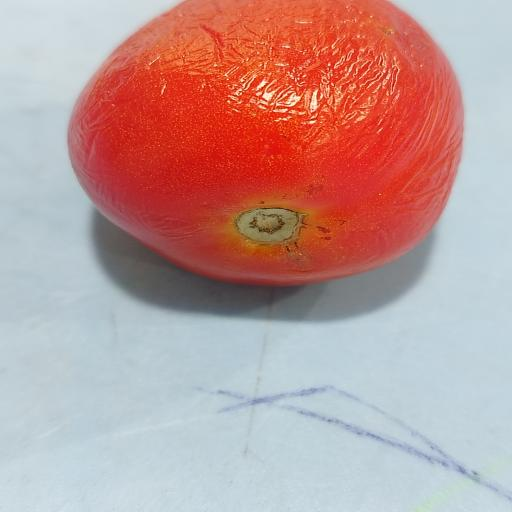spoiled: (68, 0, 463, 285)
